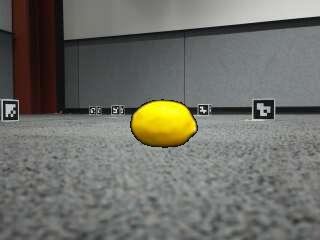lemon: (131, 101, 196, 147)
